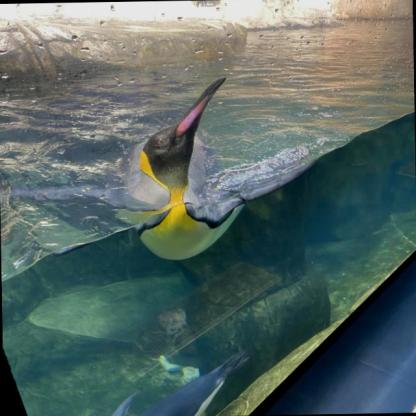penguin: (103, 76, 247, 261)
